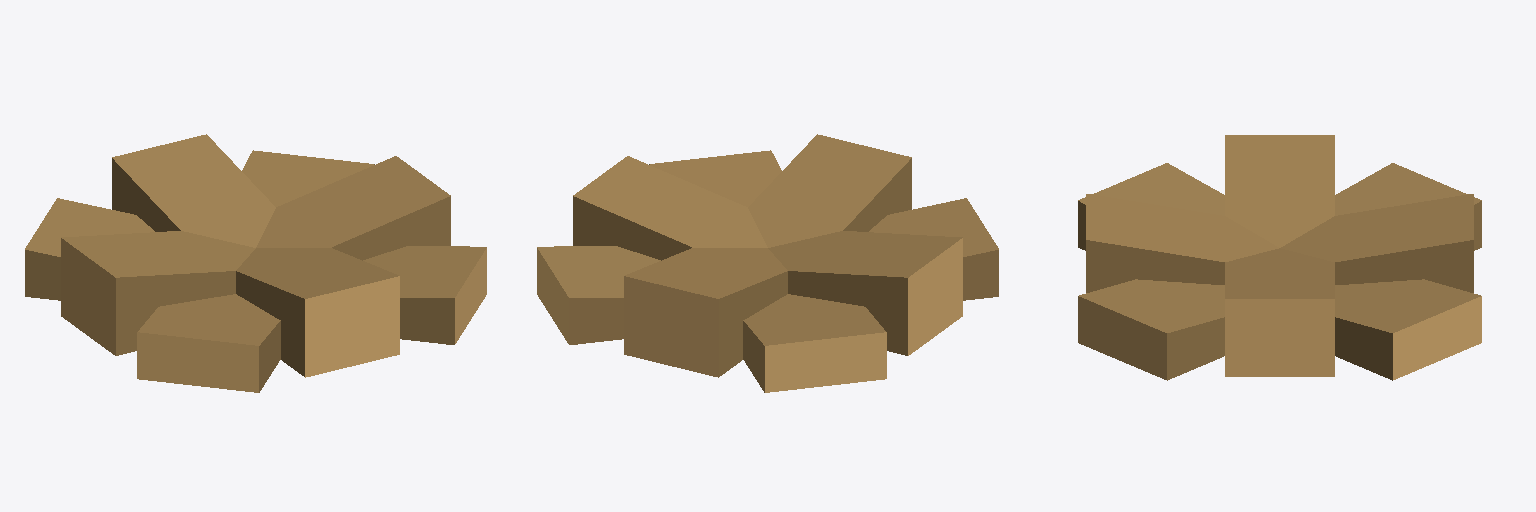
Rendered from Campfire_01.obj.
3 renders of one model, left to right at view 1: azimuth 30°, elevation 25°; view 2: azimuth 150°, elevation 25°; view 3: azimuth 270°, elevation 25°, orthographic.
Parts seen in each view (by area): view 1: Mesh1_Wood, Mesh1_Light_Wood; view 2: Mesh1_Wood, Mesh1_Light_Wood; view 3: Mesh1_Wood, Mesh1_Light_Wood.
Boxes of the visible parts, <box> form: Mesh1_Wood: <box>25,134,486,392</box>; Mesh1_Light_Wood: <box>61,238,486,392</box>; Mesh1_Wood: <box>537,134,998,392</box>; Mesh1_Light_Wood: <box>537,238,962,392</box>; Mesh1_Wood: <box>1078,135,1481,380</box>; Mesh1_Light_Wood: <box>1078,296,1481,379</box>.
Bounding box in the file's own units: 0.6993 × 0.15 × 0.6993.